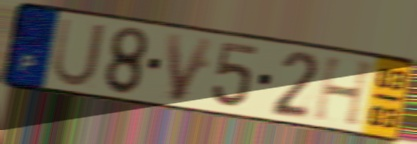2: (268, 49, 321, 121)
5: (211, 40, 261, 110)
8: (103, 25, 151, 97)
H: (311, 55, 380, 129)
U: (50, 15, 108, 89)
V: (164, 31, 217, 105)
